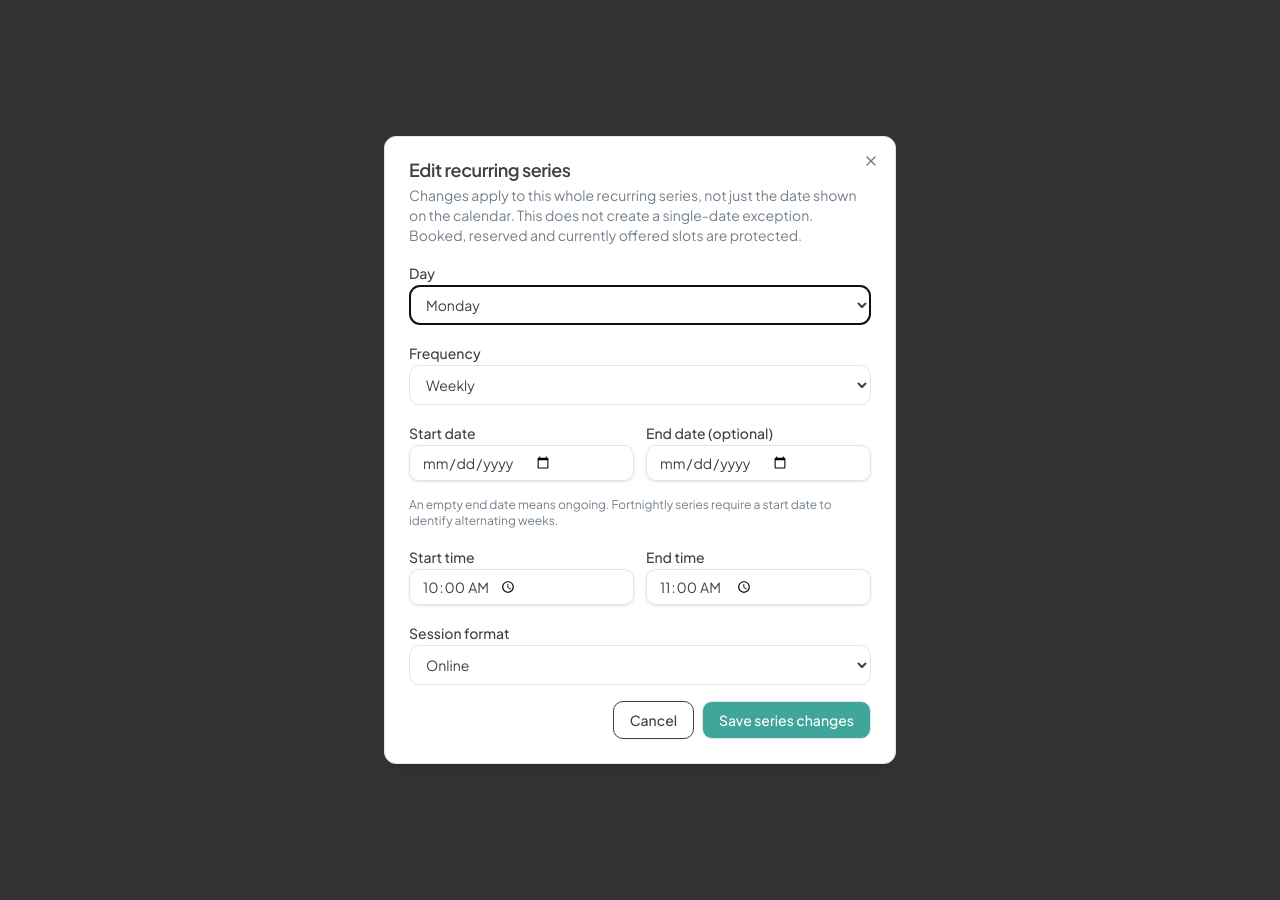
keeps stale-booking errors visible without closing the editor
This screenshot has width=1280, height=900.
Click the button "Save series changes": click(787, 720) [702,701,871,739]
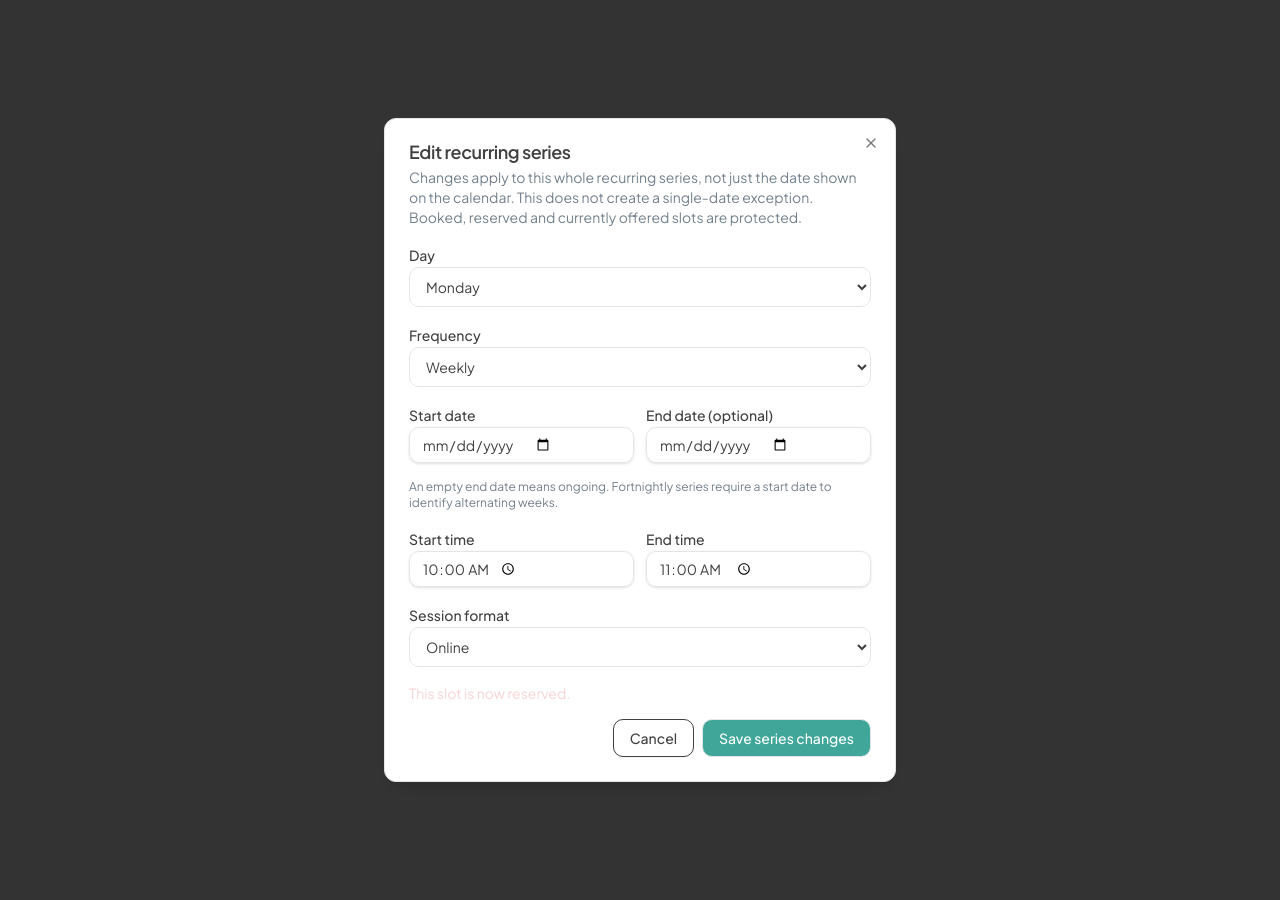
Result: the message reads "This slot is now reserved." at [409,684,570,702]
